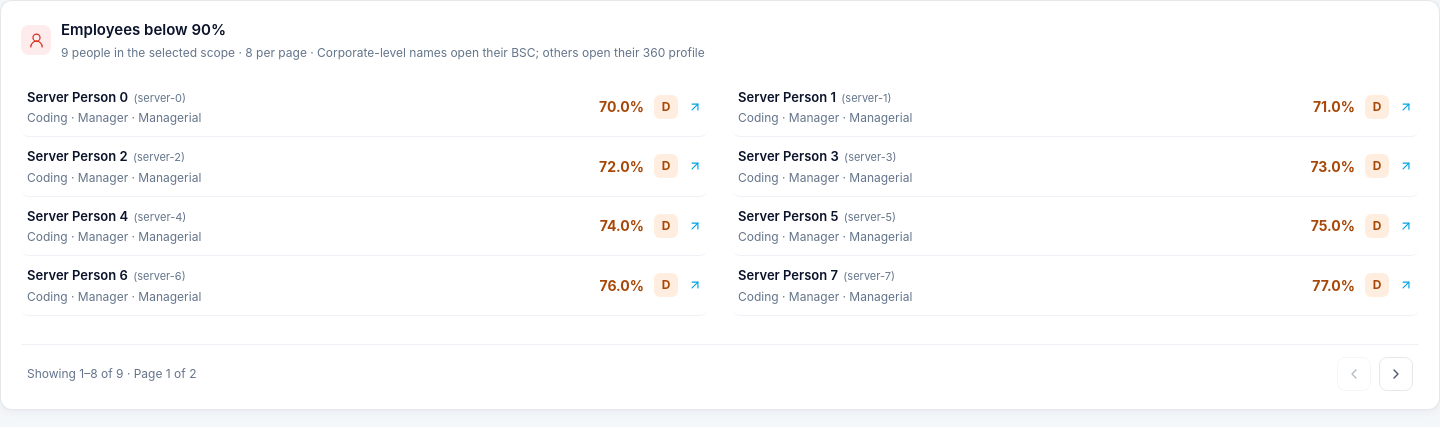
Test: EmployeesBelowTargetCard › reuses the full cached roster when the card is reopened
Expected: the text "Server Person 0" is shown, [27, 88, 128, 104]
Click the button named "Next page" at (1396, 374), box [1379, 356, 1413, 390]
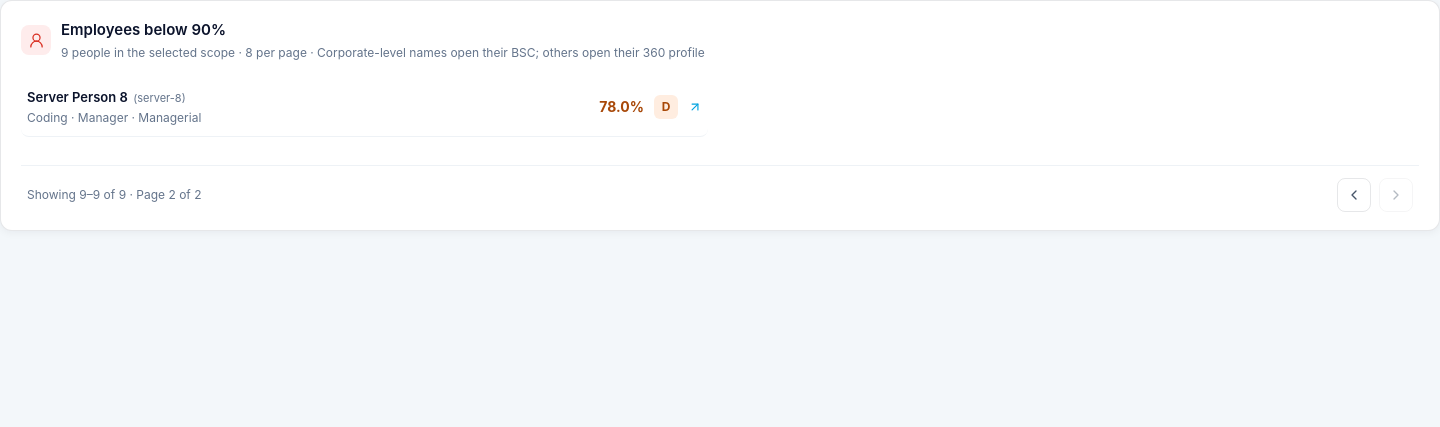
Expected: the text "Server Person 8" is shown, [27, 88, 128, 104]
